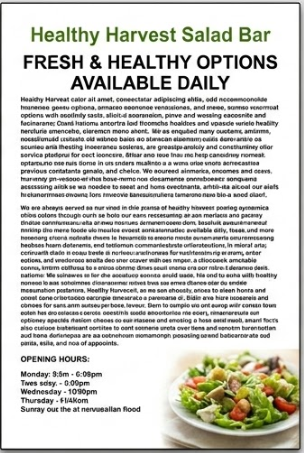Headline: (18, 25, 279, 95)
Product: (166, 349, 299, 430)
